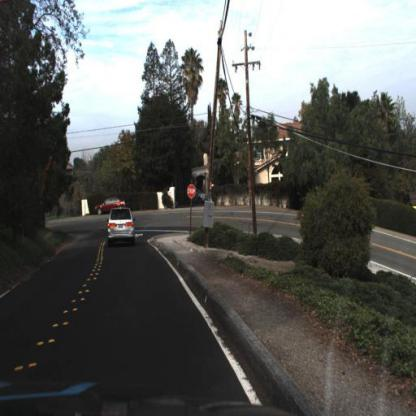car: (106, 204, 141, 247), (107, 203, 142, 245), (100, 199, 129, 217), (194, 186, 213, 205)
